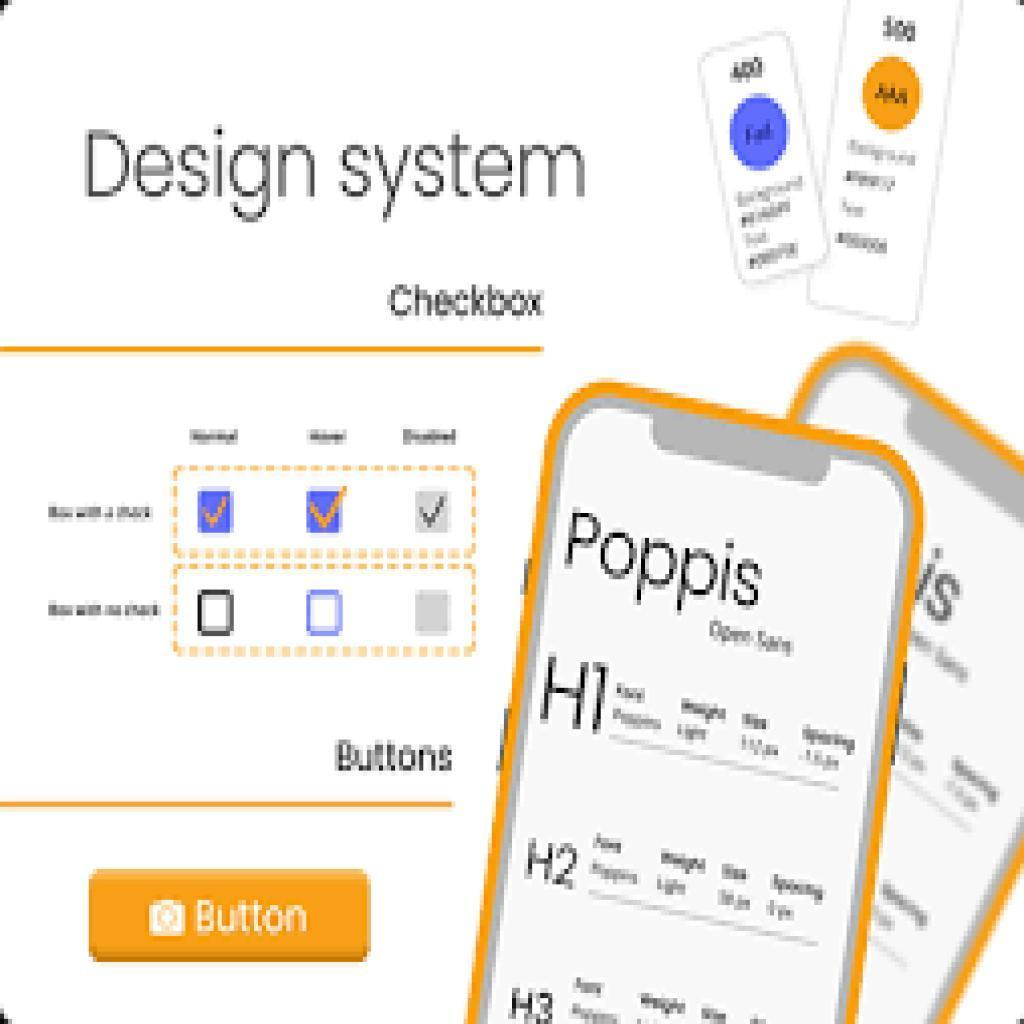button: (87, 868, 372, 964)
checkbox: (305, 590, 346, 637), (307, 489, 345, 537), (416, 590, 454, 638), (200, 590, 237, 638), (416, 490, 453, 535), (201, 490, 235, 536)
